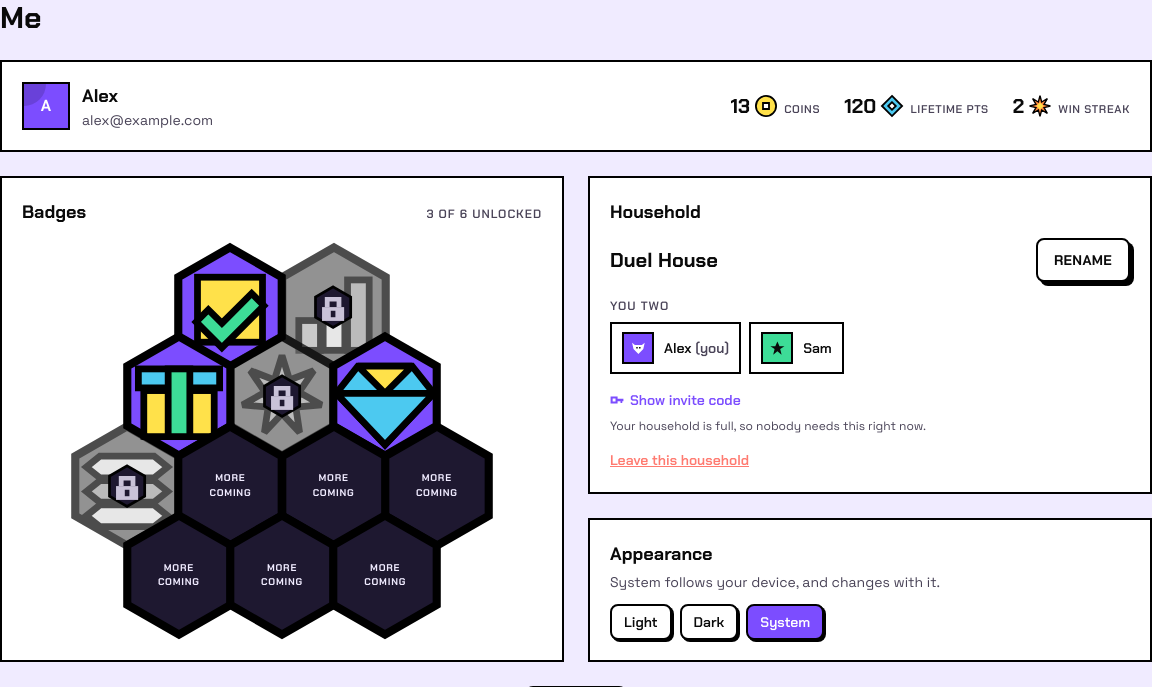
Test: household settings › opens a member to reveal their standing totals
Step 1. Click the button "Sam" → coordinates (796, 348), box 749,322 -> 844,374
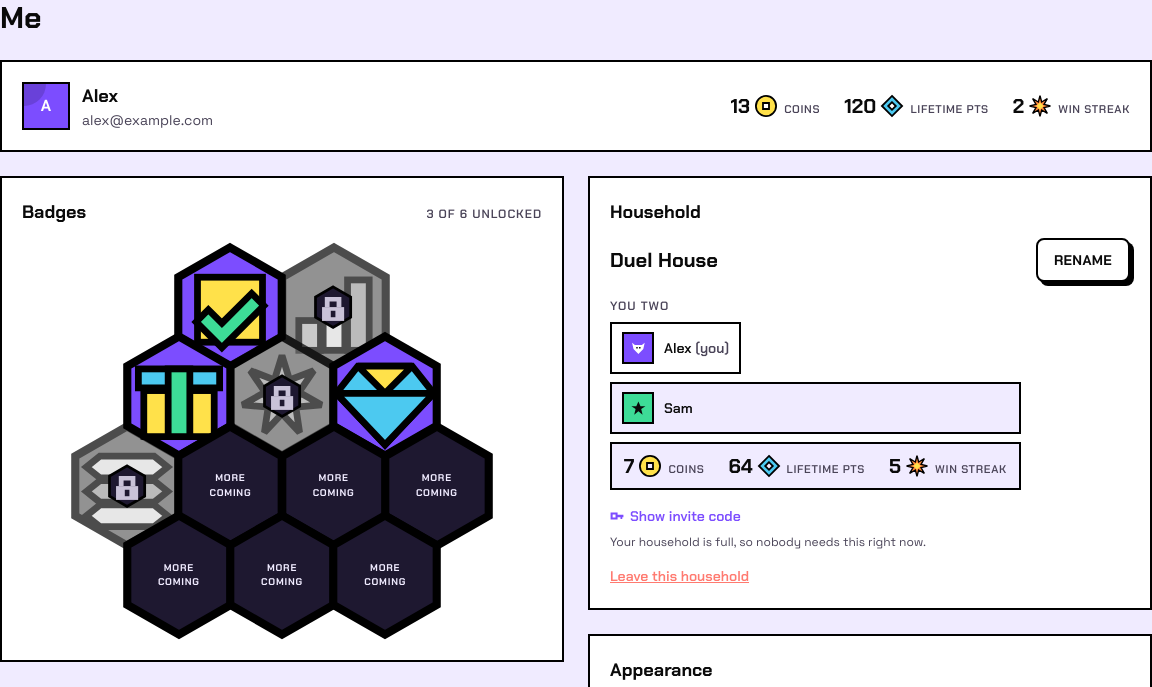
expect the button "Sam" is expanded: met, box 610,382 -> 1021,434
